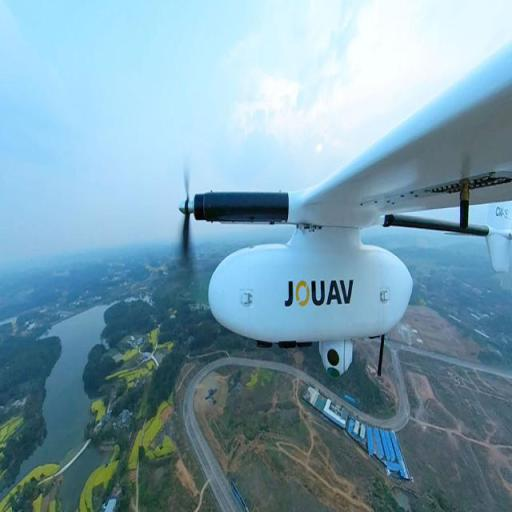uav: (160, 43, 512, 356)
